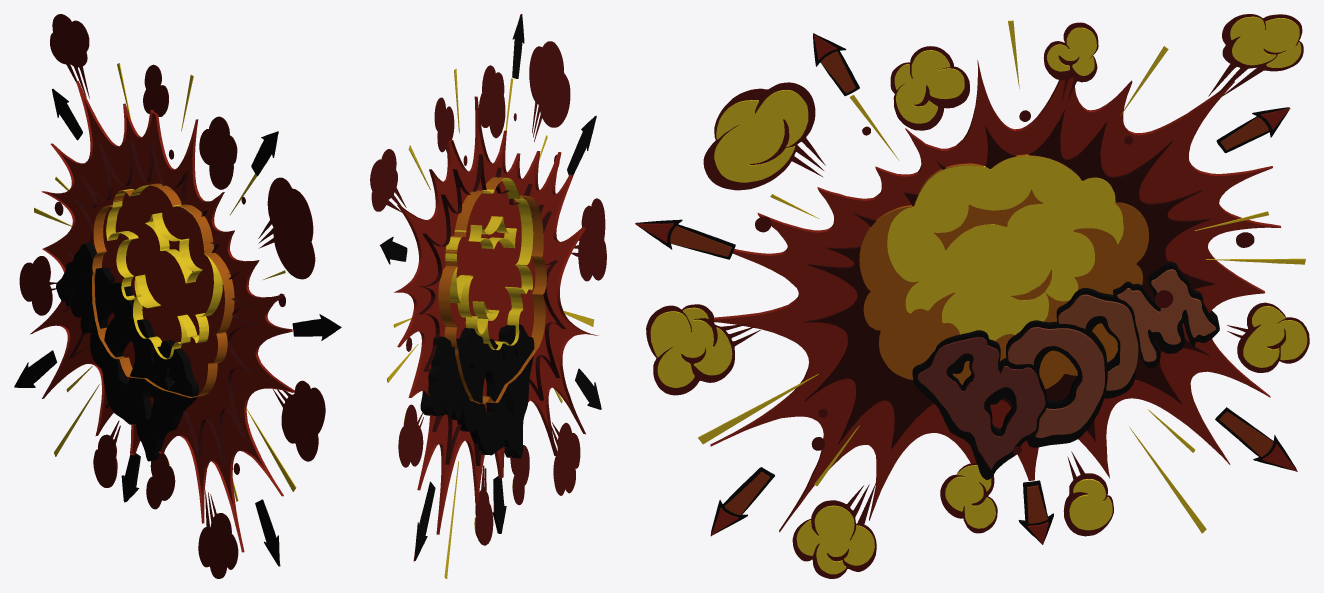
Rendered from SM_MERGED_111_Red_209.FBX.
3 renders of one model, left to right at view 1: azimuth 30°, elevation 25°; view 2: azimuth 150°, elevation 25°; view 3: azimuth 270°, elevation 25°, orthographic. The views are drawn at different scales.
Parts seen in each view (by area): view 1: SM_MERGED_111_Red_209; view 2: SM_MERGED_111_Red_209; view 3: SM_MERGED_111_Red_209.
Boxes of the visible parts, x1,y1,x2,y2 form: SM_MERGED_111_Red_209: (14, 14, 341, 578); SM_MERGED_111_Red_209: (370, 14, 606, 578); SM_MERGED_111_Red_209: (635, 14, 1309, 578).
Size of what is drawn, in the model's own units: 5.94 by 32.03 by 30.72.
